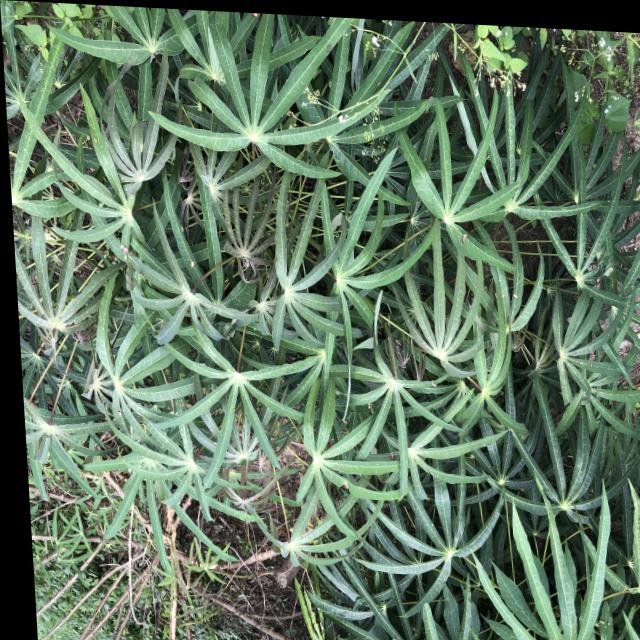Mosca: (113, 239, 135, 266), (331, 108, 348, 129), (453, 223, 470, 242), (185, 257, 200, 274), (113, 406, 126, 425), (250, 9, 264, 24), (83, 130, 99, 142), (508, 289, 522, 302), (424, 377, 437, 390), (343, 478, 350, 491)
